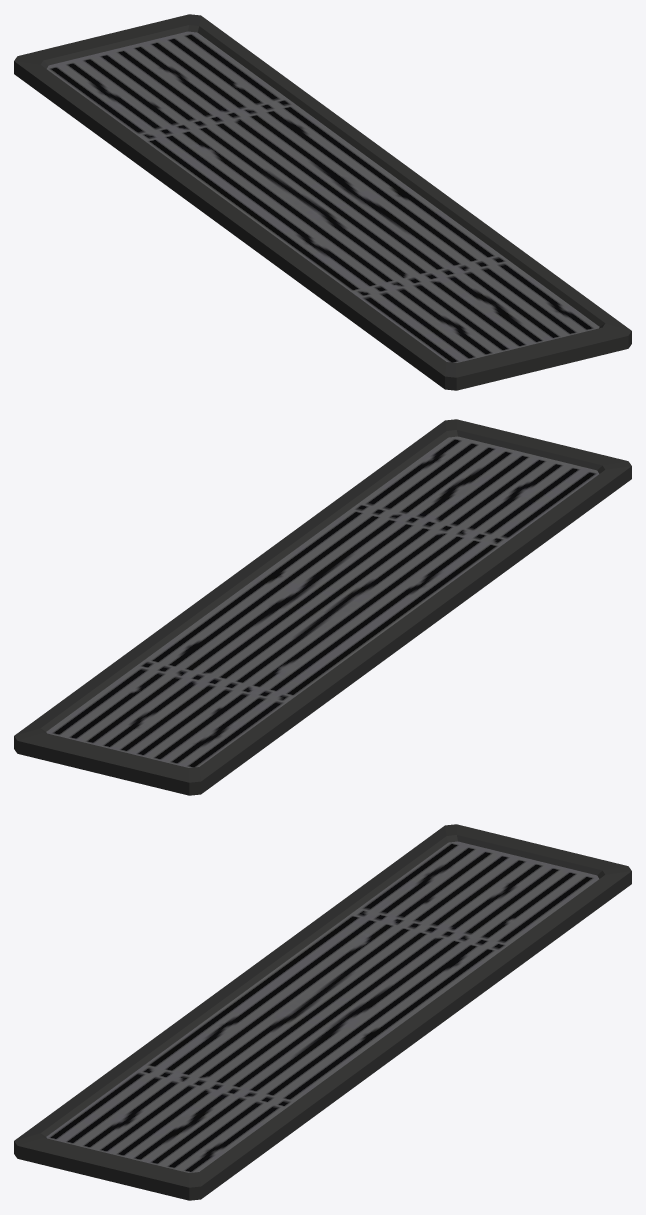
File: space_SM_Prop_Greeble_Panel_02.gltf
3 renders of one model, top to bottom at view 1: azimuth 30°, elevation 25°; view 2: azimuth 150°, elevation 25°; view 3: azimuth 330°, elevation 25°, orthographic.
Visible parts, largest first — view 1: SM_Prop_Greeble_Panel_02; view 2: SM_Prop_Greeble_Panel_02; view 3: SM_Prop_Greeble_Panel_02.
Part boxes in pixels (left/top/right/bottom): SM_Prop_Greeble_Panel_02: left=14, top=14, right=631, bottom=390; SM_Prop_Greeble_Panel_02: left=14, top=419, right=631, bottom=795; SM_Prop_Greeble_Panel_02: left=14, top=824, right=631, bottom=1200.
Size of the model in its own units: 1.16 by 0.1 by 4.7.
Materials: 1 (1 with a texture image).
